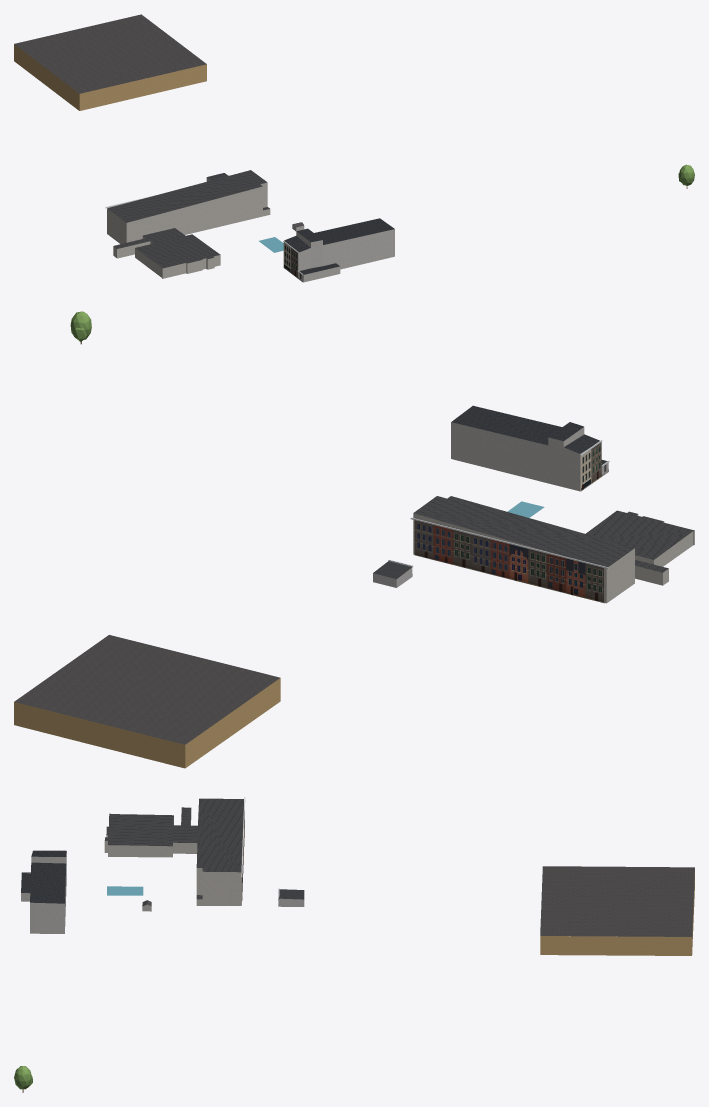
3 views of the same model, one above another, from view 1: azimuth 30°, elevation 25°; view 2: azimuth 150°, elevation 25°; view 3: azimuth 270°, elevation 25° (orthographic). The views are drawn at different scales.
Parts seen in each view (by area): view 1: bldg_6004321936_roof, bldg_6004321920, bldg_6004321920_roof, bldg_6004321936, bldg_6004321935, bldg_6004321935_roof, bldg_6004321935_facade1; view 2: bldg_6004321936_roof, bldg_6004321920_roof, bldg_6004321920_facade2, bldg_6004321936, bldg_6004321935, bldg_6004321935_roof, bldg_6004321920, bldg_6004321935_facade1; view 3: bldg_6004321936_roof, bldg_6004321920_roof, bldg_6004321936, bldg_6004321920, bldg_6004321935_roof, bldg_6004321935.
Part boxes in pixels (left/top/right/bottom): bldg_6004321936_roof: left=14, top=14, right=206, bottom=93; bldg_6004321920: left=107, top=182, right=270, bottom=278; bldg_6004321920_roof: left=107, top=170, right=269, bottom=268; bldg_6004321936: left=14, top=44, right=206, bottom=110; bldg_6004321935: left=284, top=229, right=394, bottom=282; bldg_6004321935_roof: left=284, top=218, right=394, bottom=274; bldg_6004321935_facade1: left=283, top=241, right=298, bottom=278; bldg_6004321936_roof: left=14, top=635, right=280, bottom=744; bldg_6004321920_roof: left=413, top=496, right=694, bottom=572; bldg_6004321920_facade2: left=410, top=517, right=608, bottom=603; bldg_6004321936: left=14, top=678, right=280, bottom=768; bldg_6004321935: left=451, top=422, right=587, bottom=491; bldg_6004321935_roof: left=451, top=405, right=607, bottom=464; bldg_6004321920: left=413, top=513, right=694, bottom=603; bldg_6004321935_facade1: left=580, top=440, right=602, bottom=491; bldg_6004321936_roof: left=540, top=866, right=694, bottom=936; bldg_6004321920_roof: left=104, top=798, right=243, bottom=899; bldg_6004321936: left=540, top=871, right=694, bottom=955; bldg_6004321920: left=104, top=807, right=243, bottom=905; bldg_6004321935_roof: left=21, top=850, right=66, bottom=903; bldg_6004321935: left=21, top=854, right=66, bottom=933.
Bounding box in the file's own units: 233 × 14.92 × 241.
18 materials, 9 textured.
